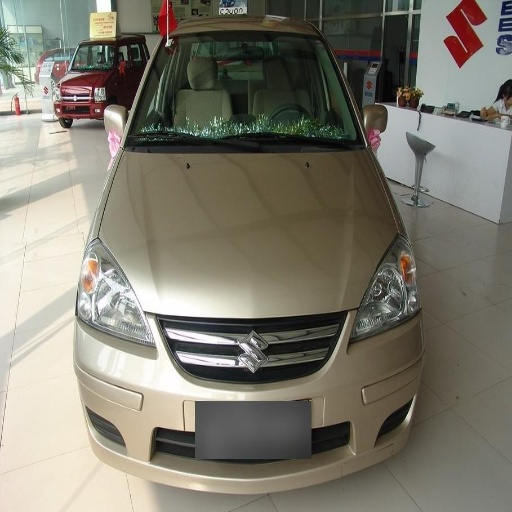front_bumper: (76, 308, 420, 504)
front_right_light: (78, 241, 153, 347)
hood: (101, 148, 394, 318)
